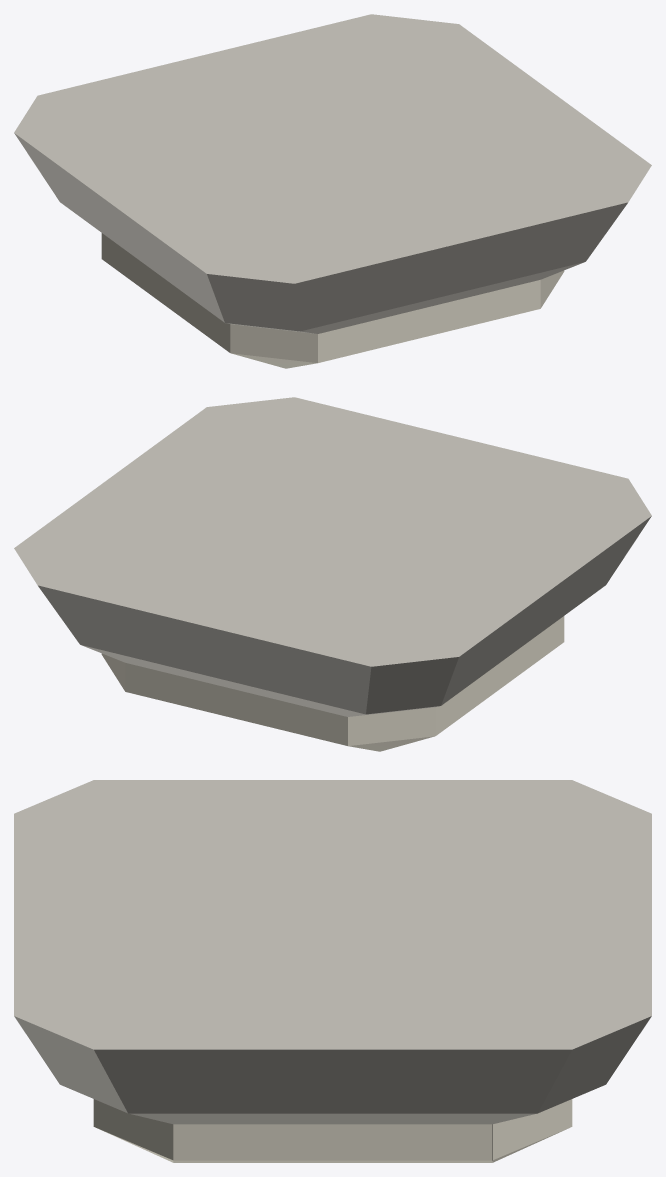
The model's file is lightfixture.gltf.
3 renders of one model, top to bottom at view 1: azimuth 30°, elevation 25°; view 2: azimuth 150°, elevation 25°; view 3: azimuth 270°, elevation 25°, orthographic. The views are drawn at different scales.
Parts seen in each view (by area): view 1: beveled_cuboid (×2); view 2: beveled_cuboid (×2); view 3: beveled_cuboid (×2).
Part boxes in pixels (bbox=[...]): beveled_cuboid (×2): bbox=[14, 14, 651, 368]; beveled_cuboid (×2): bbox=[14, 397, 651, 751]; beveled_cuboid (×2): bbox=[14, 780, 651, 1162].
Bounding box in the file's own units: 1 × 0.3125 × 1.
Materials: 2 (2 with a texture image).
